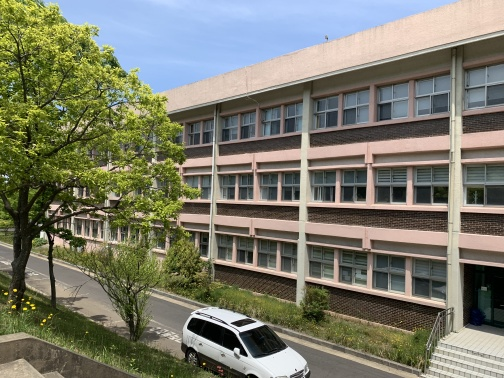College Of Education: (53, 51, 504, 316)
